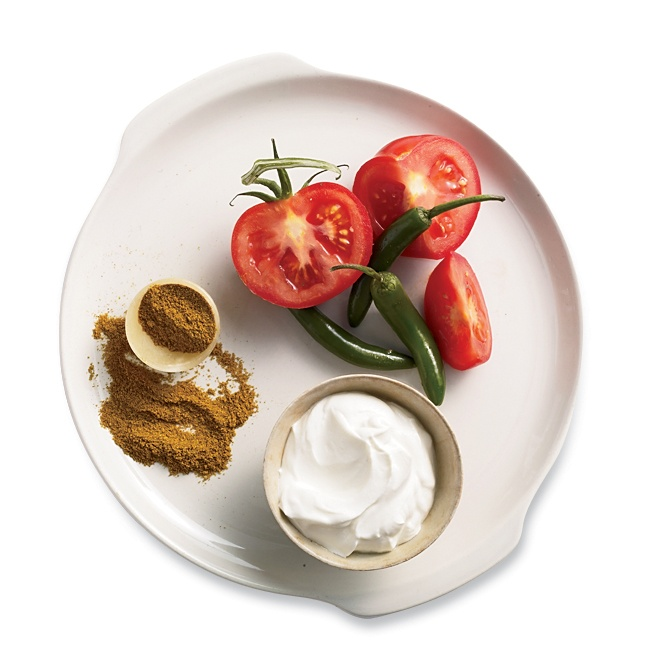background: (171, 174, 454, 577), (236, 138, 523, 421)
